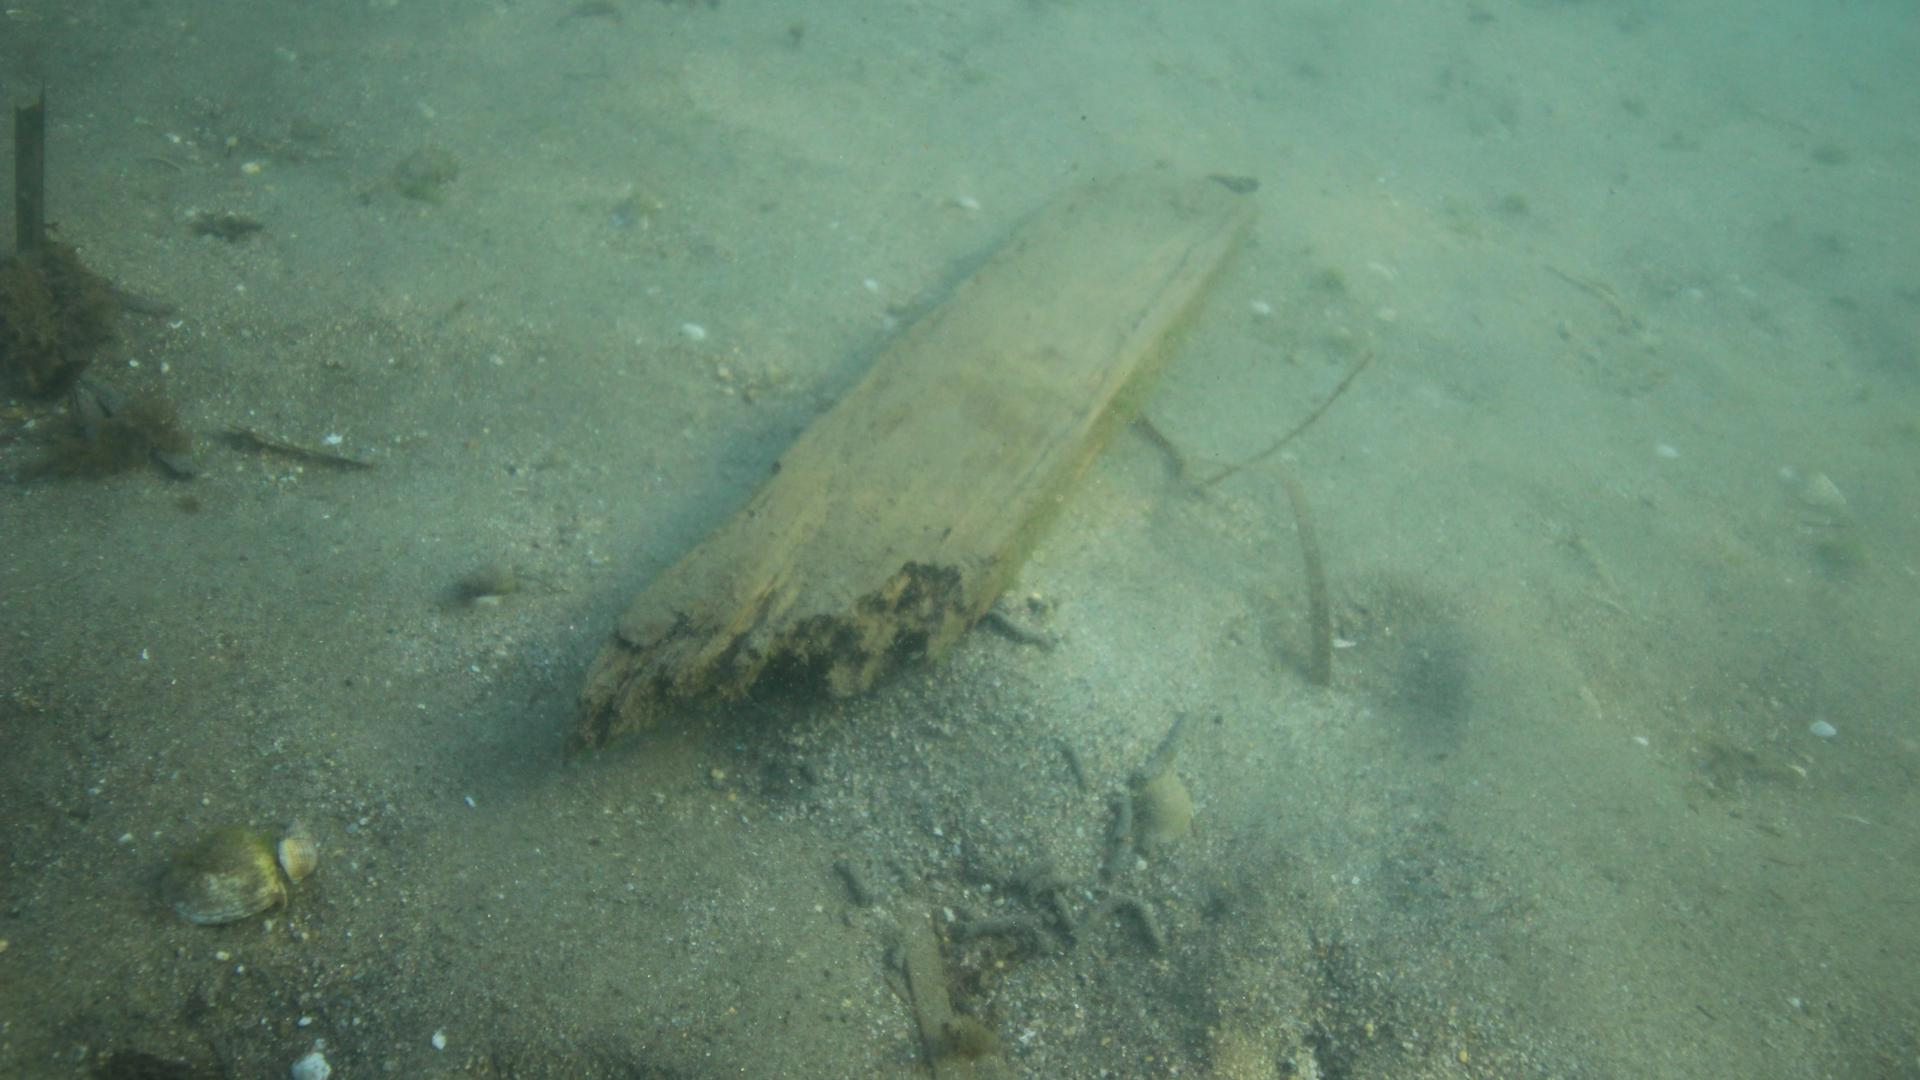wood: (572, 167, 1261, 750)
